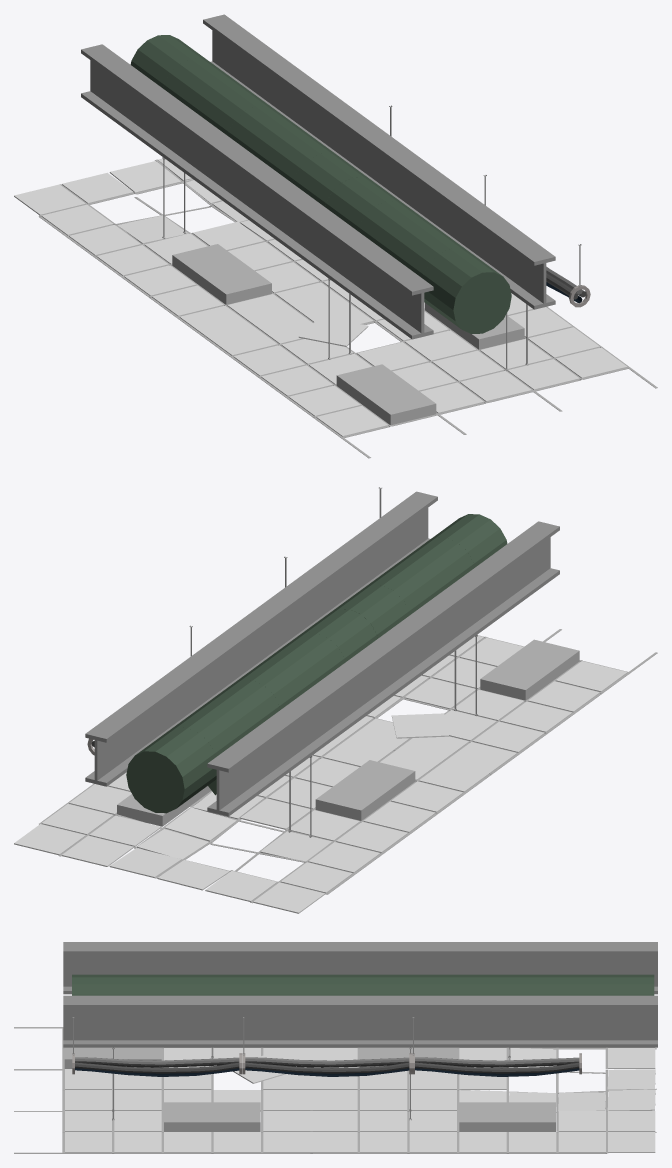
Rendered from shortHallwayPartiallyDestroyedVariantB.fbx.
3 renders of one model, top to bottom at view 1: azimuth 30°, elevation 25°; view 2: azimuth 150°, elevation 25°; view 3: azimuth 270°, elevation 25°, orthographic. The views are drawn at different scales.
Visible parts, largest first — view 1: Plane.274; view 2: Plane.274; view 3: Plane.274.
Boxes of the visible parts, x1,y1,x2,y2 form: Plane.274: (14, 14, 657, 458); Plane.274: (14, 487, 657, 913); Plane.274: (14, 942, 657, 1153).
Bounding box in the file's own units: 1269 × 567 × 2726.
